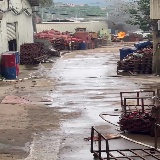fire: (117, 32, 125, 38)
